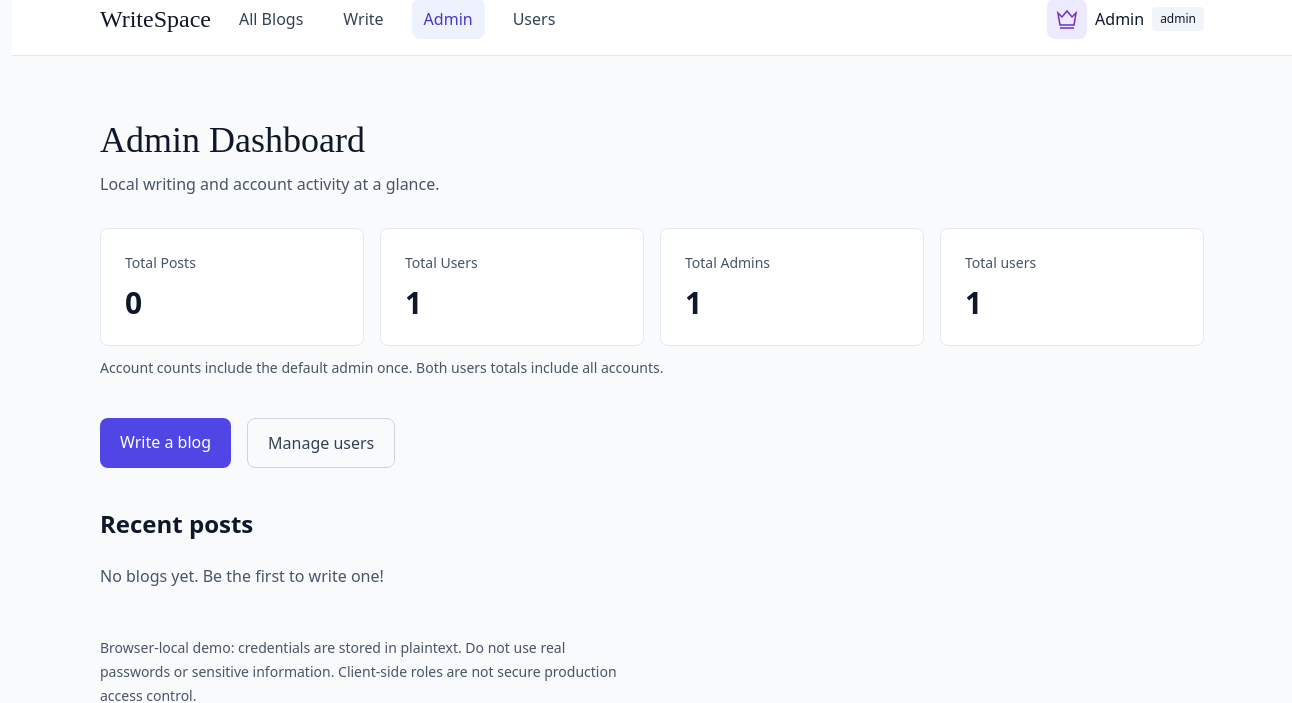
Test case: quick action Manage users routes only on activation
This screenshot has width=1292, height=703.
Click the link "Manage users": (321, 443) [247,418,395,468]
(page scrolled)
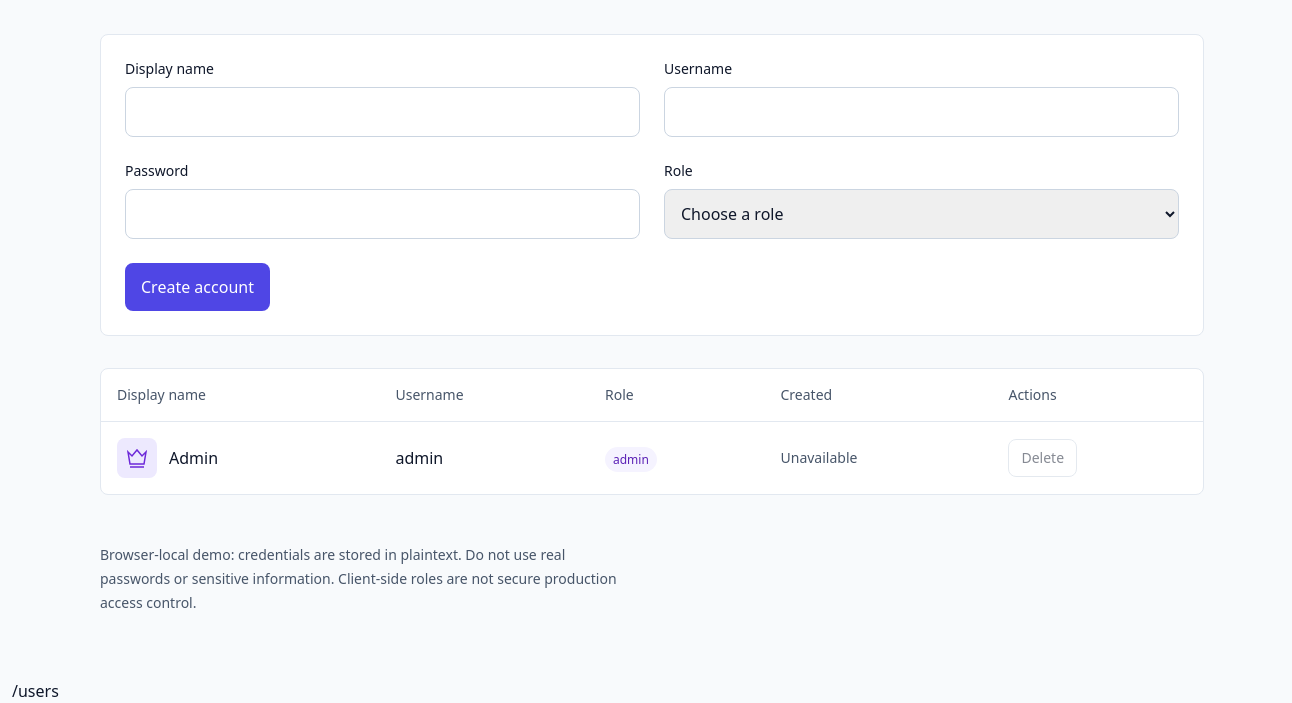
Now the text named "Location" reads "/users", box [12,680,59,702]
